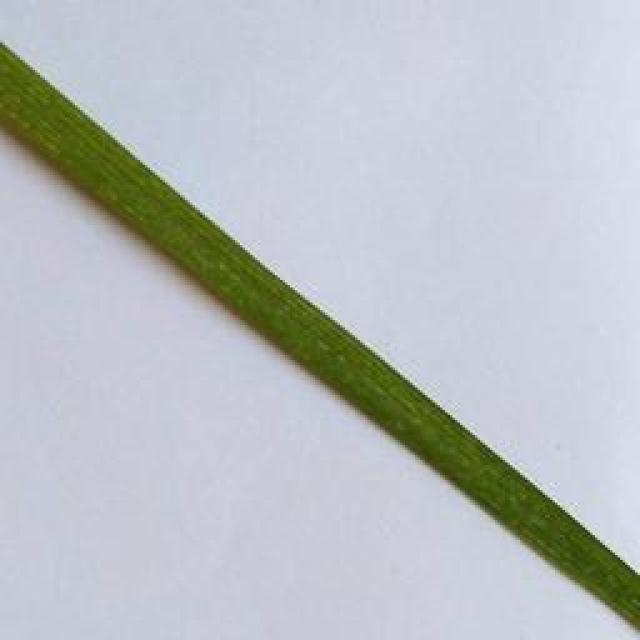Healthy-Plant: (0, 46, 640, 636)
